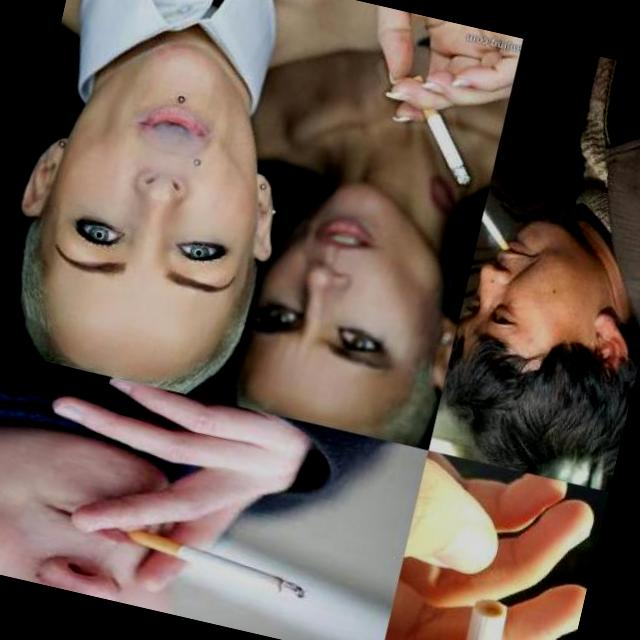cigarette: (27, 364, 342, 600), (348, 6, 504, 189), (455, 592, 514, 640), (476, 197, 522, 254)
